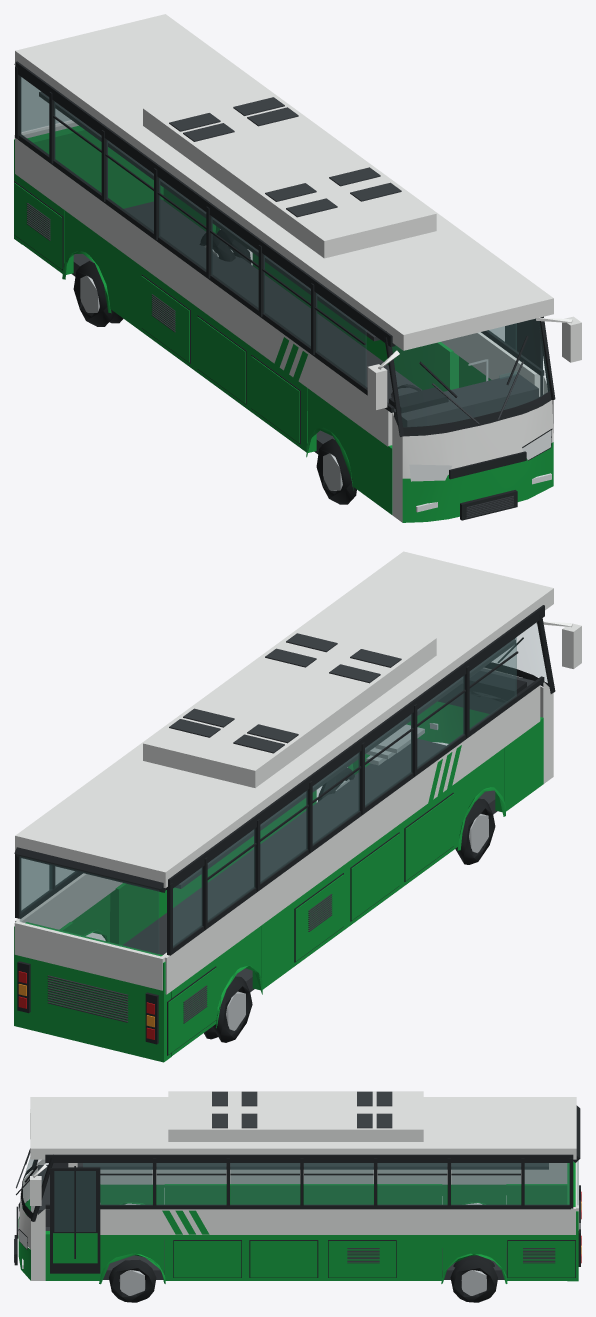
The model's file is coach_lod2.glb.
The picture shows the model from 3 angles, top to bottom: view 1: azimuth 30°, elevation 25°; view 2: azimuth 150°, elevation 25°; view 3: azimuth 270°, elevation 25°; orthographic projection. The views are drawn at different scales.
Visible parts, largest first — view 1: Body; view 2: Body; view 3: Body.
Boxes of the visible parts, left/top/right/bottom form: Body: left=14, top=14, right=581, bottom=522; Body: left=14, top=551, right=581, bottom=1062; Body: left=14, top=1091, right=581, bottom=1302.
Size of the model in its own units: 3.41 by 3.81 by 11.57.
